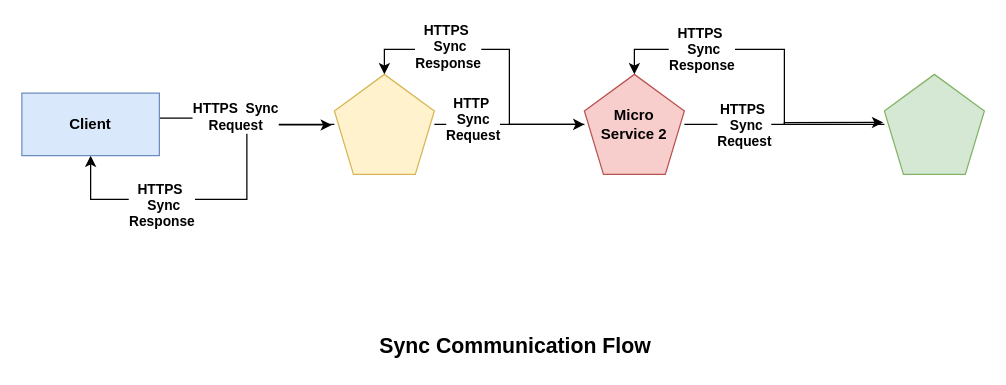
This 1006x385 diagram has some shape labels left out. The centre of each missing label's shape, as x and y in pixels:
"Micro Service 1" goes at point (383, 123).
"Micro Service 3" goes at point (933, 123).
